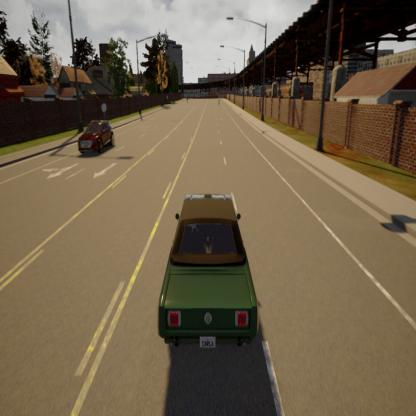Cars: (158, 196, 258, 352), (78, 124, 115, 157), (186, 94, 190, 102), (217, 98, 220, 108)
